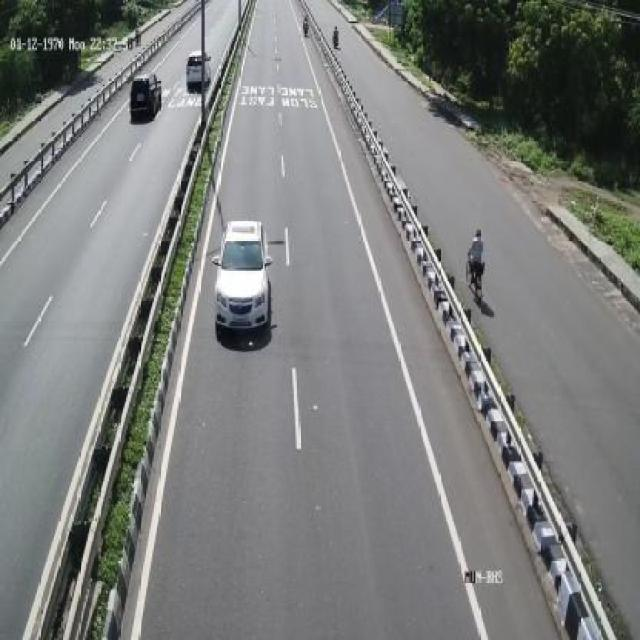car: (214, 212, 275, 346), (129, 68, 165, 126)
